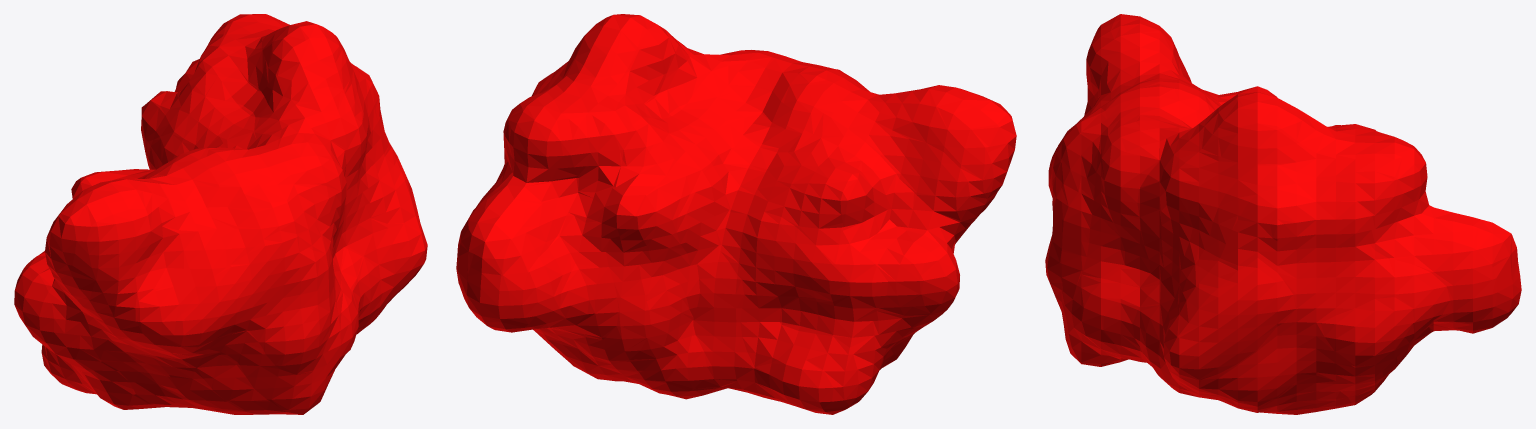
File: wrbA_coarse.dae
The picture shows the model from 3 angles, left to right: view 1: azimuth 30°, elevation 25°; view 2: azimuth 150°, elevation 25°; view 3: azimuth 270°, elevation 25°; orthographic projection. The views are drawn at different scales.
Parts seen in each view (by area): view 1: wrbA; view 2: wrbA; view 3: wrbA.
Boxes of the visible parts, bbox=[...] form: wrbA: bbox=[14, 14, 427, 414]; wrbA: bbox=[456, 14, 1016, 414]; wrbA: bbox=[1045, 14, 1521, 414].
Size of the model in its own units: 65.32 by 51.18 by 65.26.
